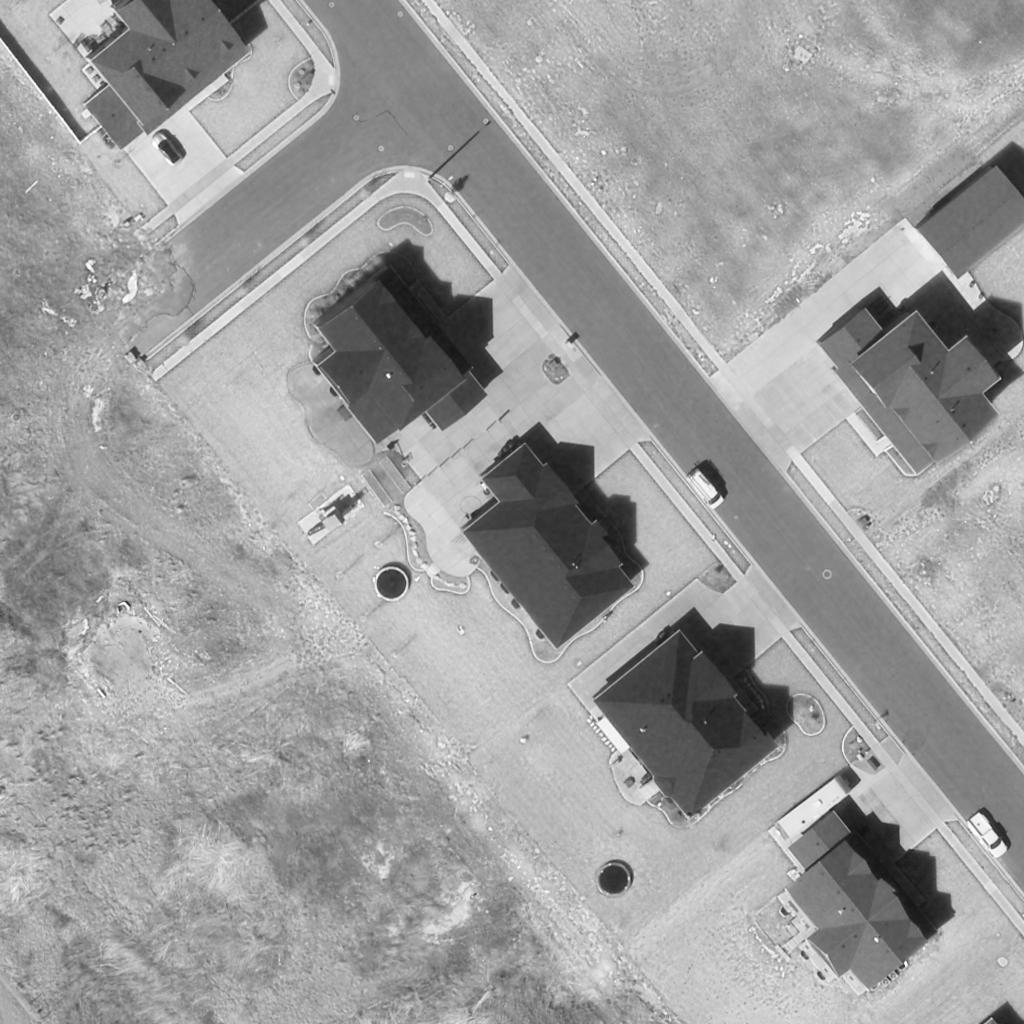vehicle: (965, 812, 1009, 862), (685, 467, 725, 513), (149, 131, 183, 167)
